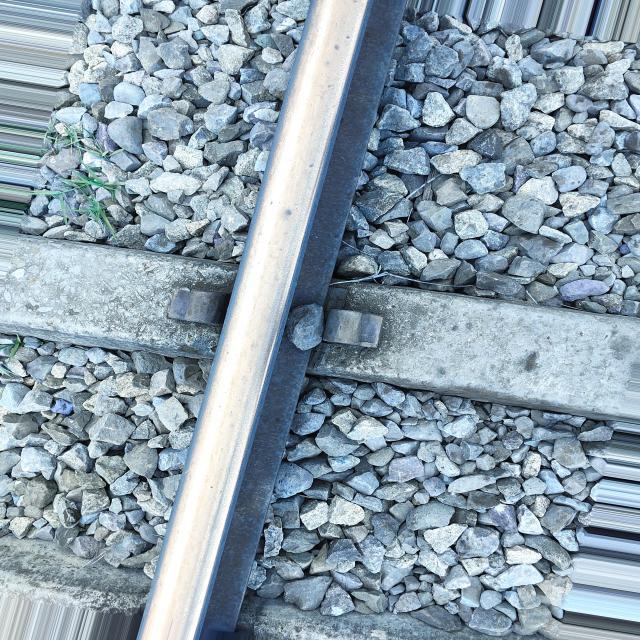Missing Fastener: (297, 276, 378, 362), (145, 266, 217, 342)
